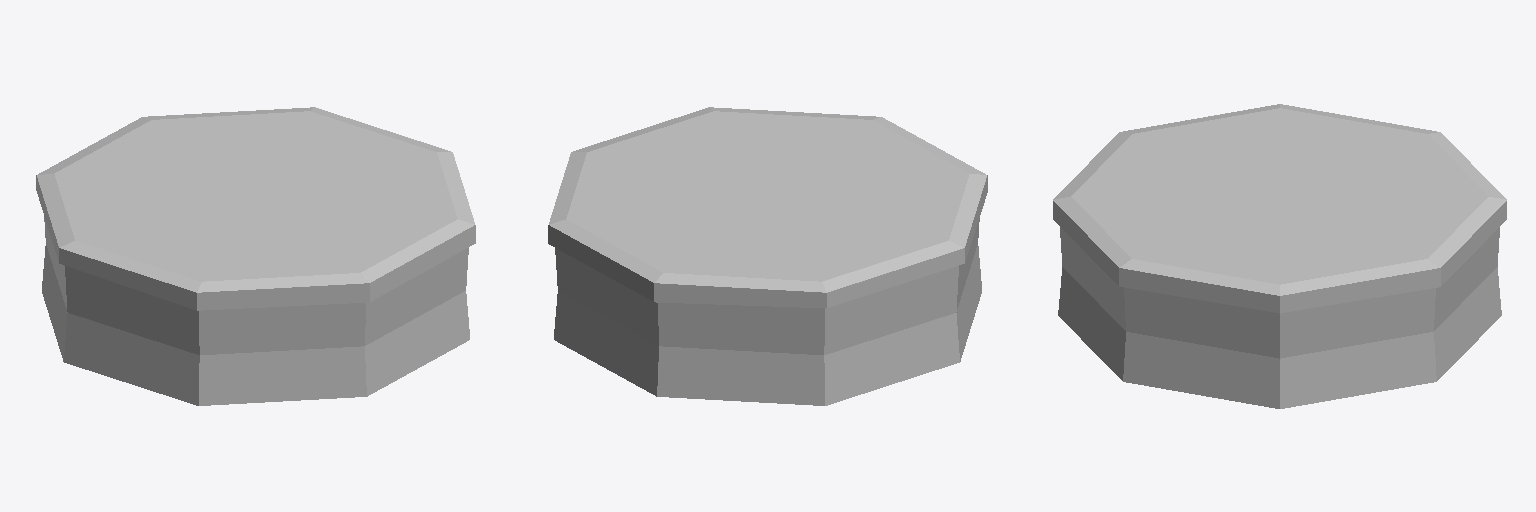
Rendered from rock1.obj.
3 views of the same model, side by side, from view 1: azimuth 30°, elevation 25°; view 2: azimuth 150°, elevation 25°; view 3: azimuth 270°, elevation 25° (orthographic).
Parts seen in each view (by area): view 1: Circle.062, Circle.061; view 2: Circle.062, Circle.061; view 3: Circle.062, Circle.061.
Part boxes in pixels (left/top/right/bottom): Circle.062: left=36, top=107, right=475, bottom=310; Circle.061: left=42, top=217, right=469, bottom=405; Circle.062: left=548, top=107, right=987, bottom=307; Circle.061: left=554, top=218, right=981, bottom=405; Circle.062: left=1053, top=104, right=1506, bottom=312; Circle.061: left=1058, top=227, right=1501, bottom=408.
Bounding box in the file's own units: 0.1827 × 0.0528 × 0.1827.